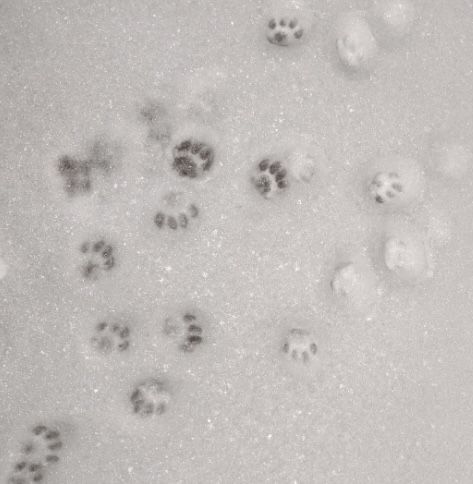cat: (11, 423, 63, 484), (148, 190, 201, 234), (159, 308, 207, 356), (71, 240, 119, 284), (169, 140, 221, 179), (126, 376, 172, 417), (89, 317, 130, 360), (249, 161, 289, 205), (261, 16, 309, 51)
